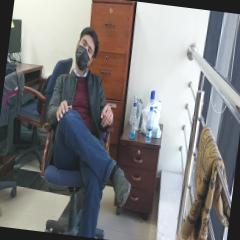not-gloved: (54, 99, 72, 122), (98, 103, 114, 128)
